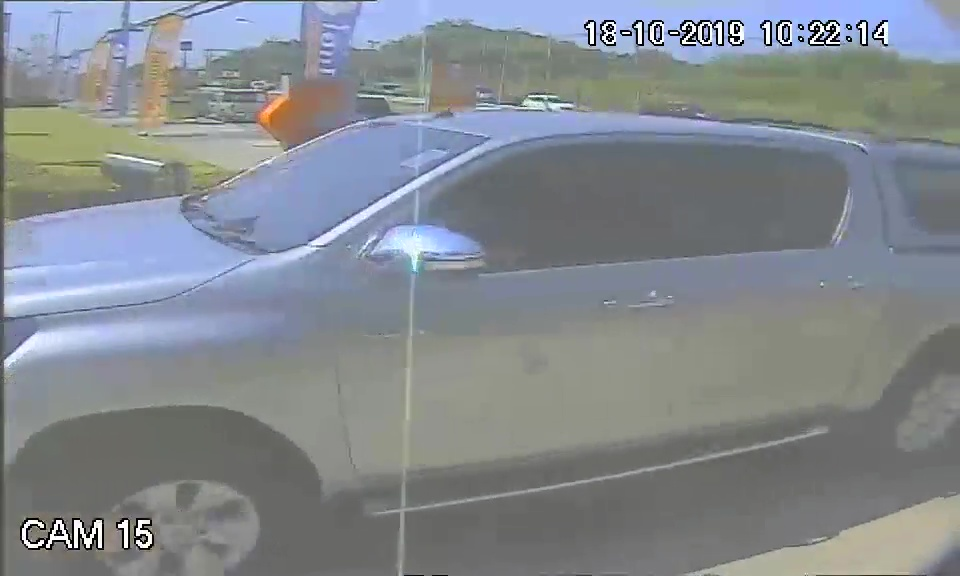pickup: (18, 110, 960, 518)
